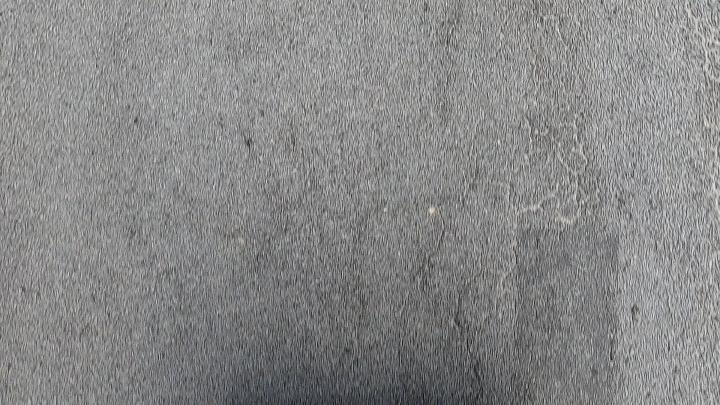Crack: (510, 102, 589, 245), (678, 7, 720, 218), (442, 291, 492, 382), (510, 183, 580, 231), (681, 8, 719, 85), (451, 295, 483, 381), (562, 115, 588, 208), (532, 8, 580, 58), (536, 13, 580, 56), (427, 199, 458, 256), (525, 112, 566, 145), (704, 177, 719, 220), (439, 222, 454, 246), (704, 115, 719, 130), (429, 206, 443, 221), (714, 146, 719, 175)
